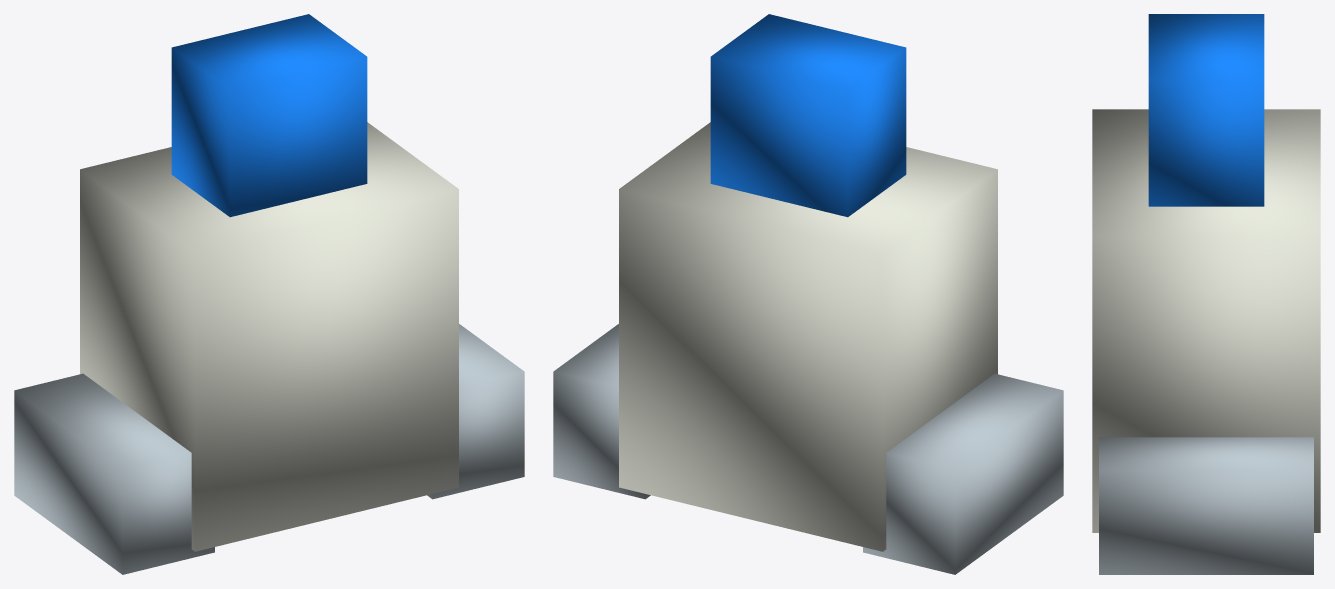
File: 23_L94_LED2_StatusBlue.fbx
3 renders of one model, left to right at view 1: azimuth 30°, elevation 25°; view 2: azimuth 150°, elevation 25°; view 3: azimuth 270°, elevation 25°, orthographic.
Visible parts, largest first — view 1: L94_StatusBlue_Part_0000, L94_StatusBlue_Part_0002, L94_StatusBlue_Part_0001; view 2: L94_StatusBlue_Part_0000, L94_StatusBlue_Part_0002, L94_StatusBlue_Part_0001; view 3: L94_StatusBlue_Part_0000, L94_StatusBlue_Part_0002, L94_StatusBlue_Part_0001.
Boxes of the visible parts, x1=… form: L94_StatusBlue_Part_0000: x1=80, y1=122, x2=458, y2=551; L94_StatusBlue_Part_0002: x1=14, y1=324, x2=524, y2=574; L94_StatusBlue_Part_0001: x1=171, y1=14, x2=367, y2=217; L94_StatusBlue_Part_0000: x1=619, y1=122, x2=997, y2=551; L94_StatusBlue_Part_0002: x1=553, y1=324, x2=1063, y2=574; L94_StatusBlue_Part_0001: x1=710, y1=14, x2=906, y2=217; L94_StatusBlue_Part_0000: x1=1092, y1=109, x2=1320, y2=532; L94_StatusBlue_Part_0002: x1=1099, y1=437, x2=1313, y2=574; L94_StatusBlue_Part_0001: x1=1148, y1=14, x2=1264, y2=206.
Size of the model in its own units: 4.8 by 4.95 by 2.38.
